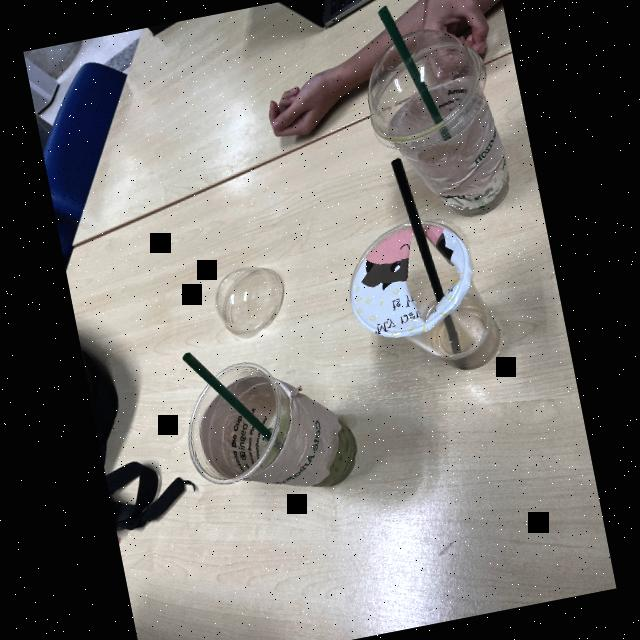plastic_cup: (174, 340, 367, 513), (336, 205, 510, 392), (351, 38, 516, 230)
plastic_cup_lid: (352, 15, 502, 158), (208, 255, 293, 343)
straw: (388, 154, 464, 361), (375, 2, 455, 145), (180, 350, 286, 456)
